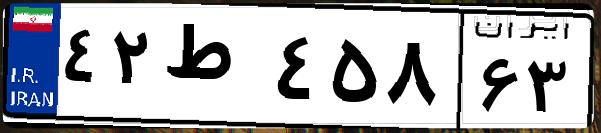2: (110, 28, 158, 98)
3: (525, 38, 570, 115)
4: (270, 28, 330, 110), (57, 26, 110, 100)
5: (330, 28, 385, 110)
6: (475, 38, 525, 113)
8: (385, 28, 445, 110)
ط: (158, 20, 270, 120)
